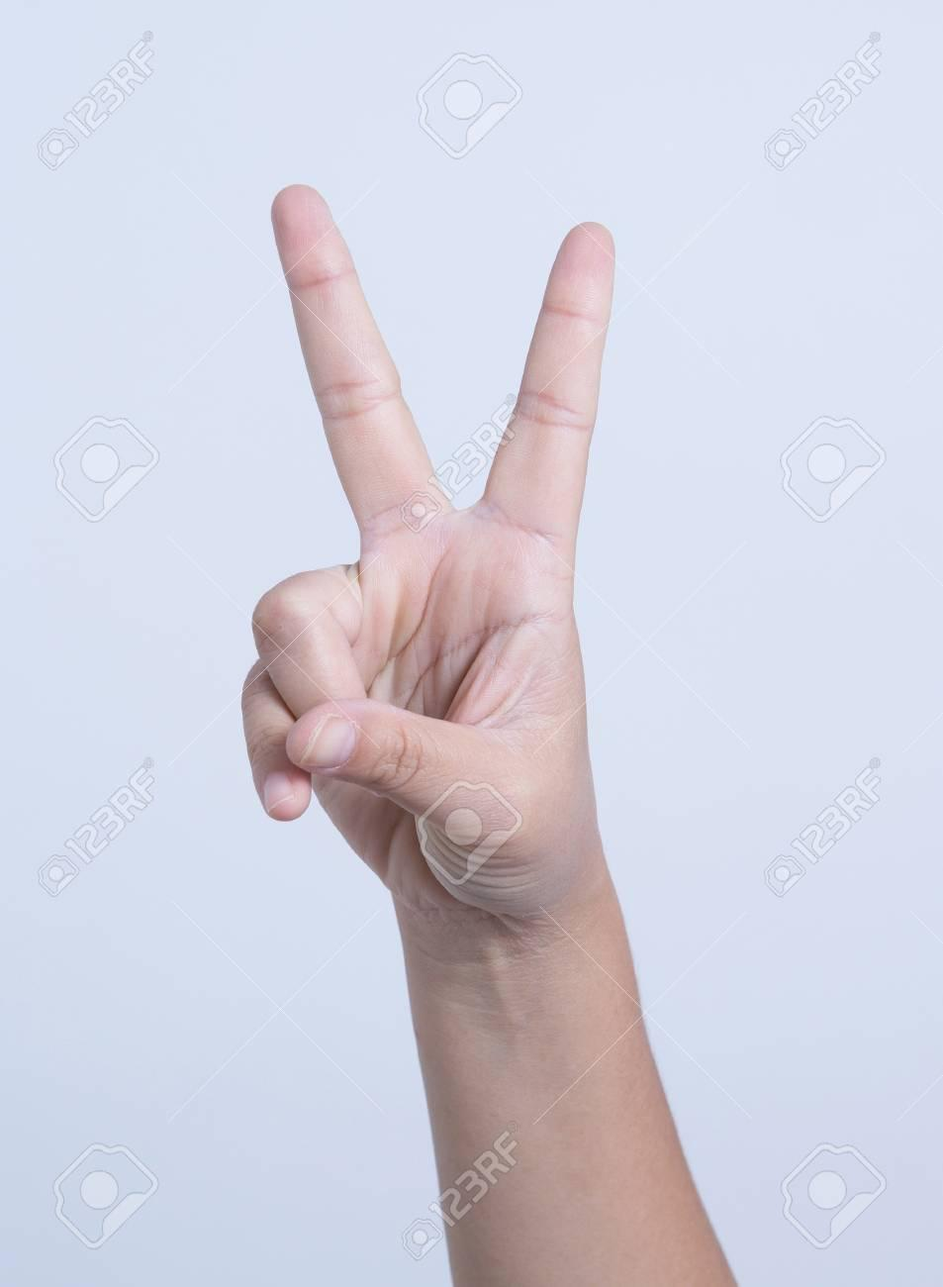peace_sign: (206, 149, 674, 931)
